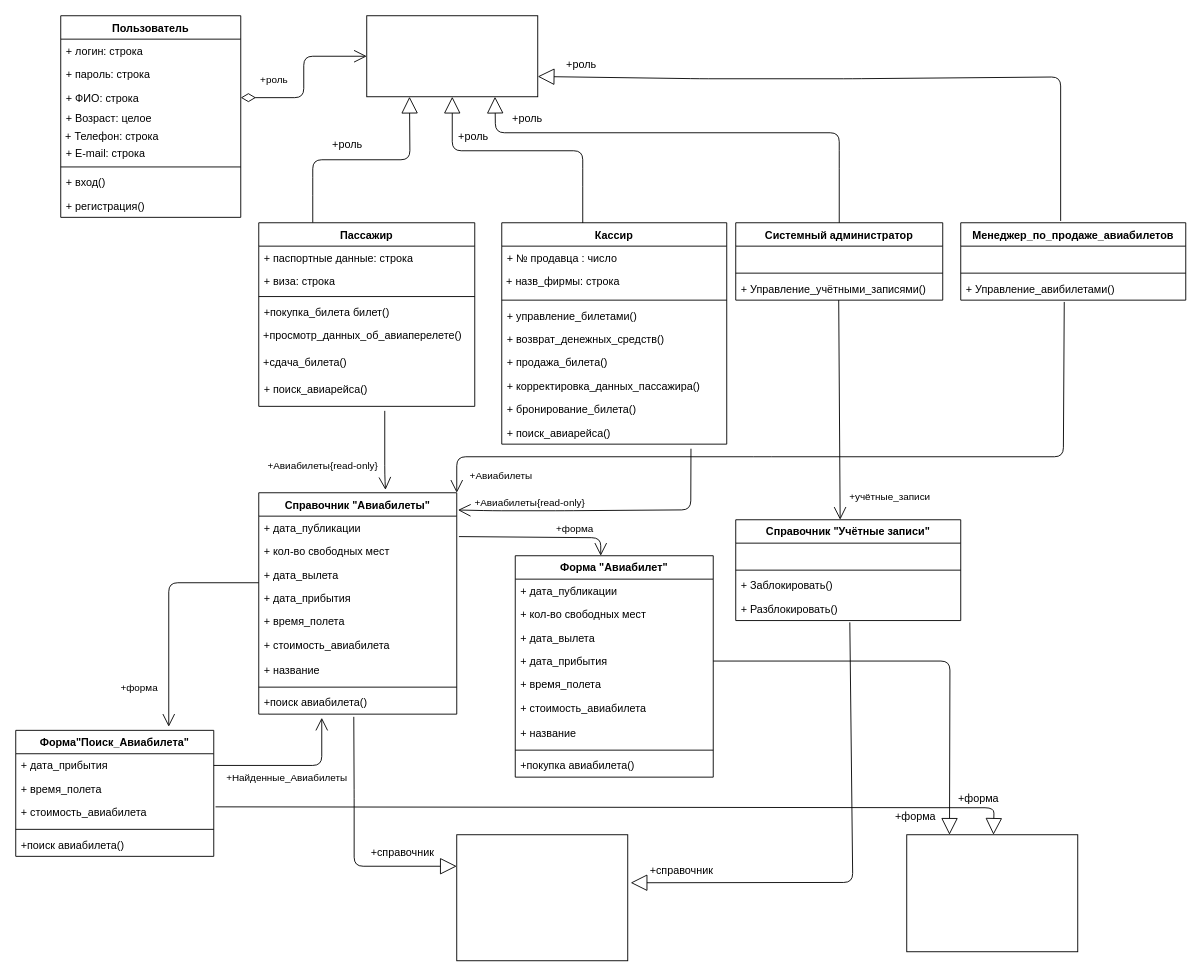
Some shapes in this 1202 by 977 pixel diagram are drawn without their labels. The shapes that lost their labels are listed below. From the top down, each one's centre as x and y in pixels, then its label:
[452,56]: "abstract" Роль + выход()
[542,897]: "abstract" Справочник + Создать() + Просмотреть() + Изменить() + Удалить()
[992,893]: "abstract" Форма + Сохранить() + Отмена()
